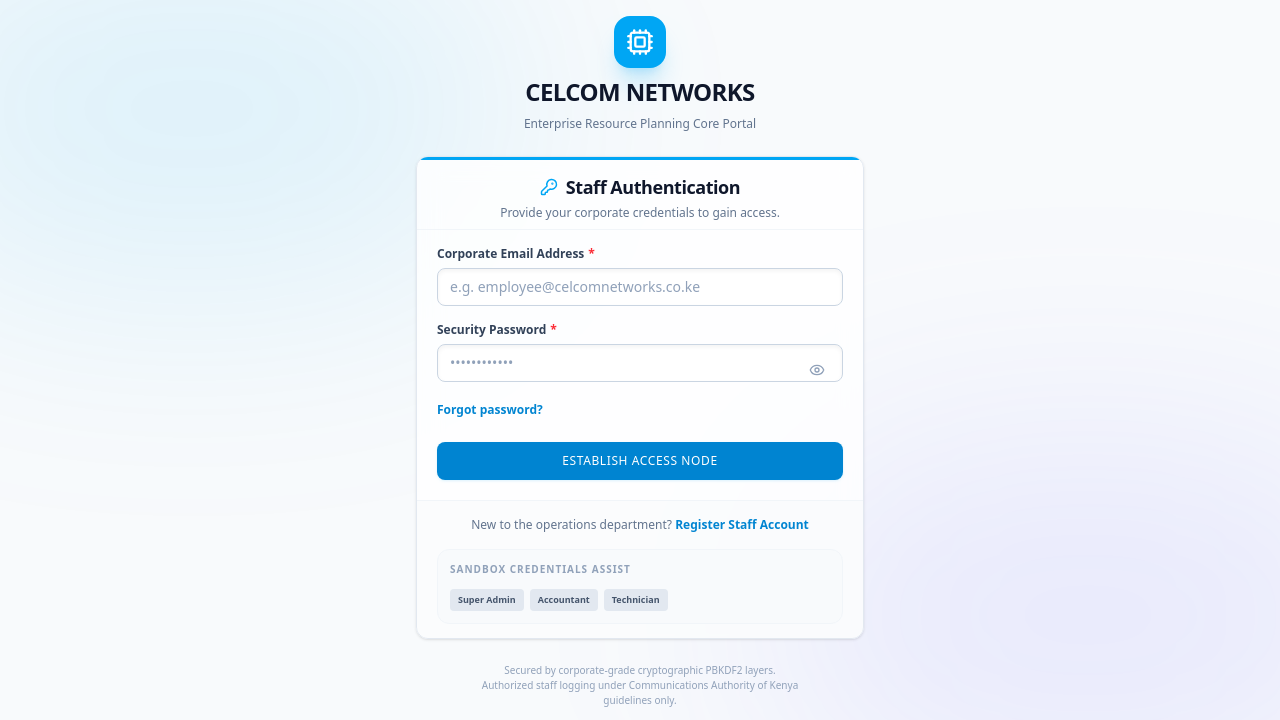
Scenario: LoginPage Component Unit Tests › should display error message on authentication failure with incorrect credentials
Note: Populate inputs to bypass native HTML5 validation
Type "noc@celcomnetworks.co.ke" into the field labelled "Corporate Email Address *" at (640, 287), box [437,268,843,306]
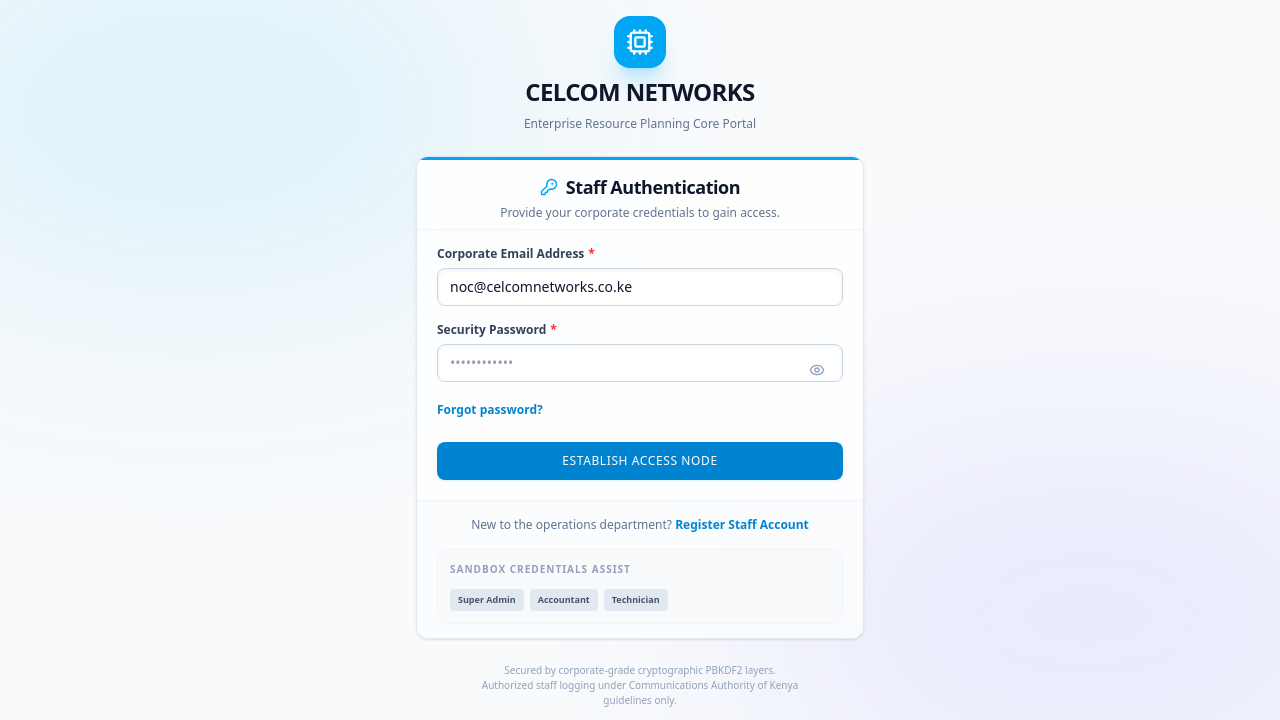
Type "incorrect-pass" into the password field labelled "Security Password *" at (640, 363), box [437,344,843,382]
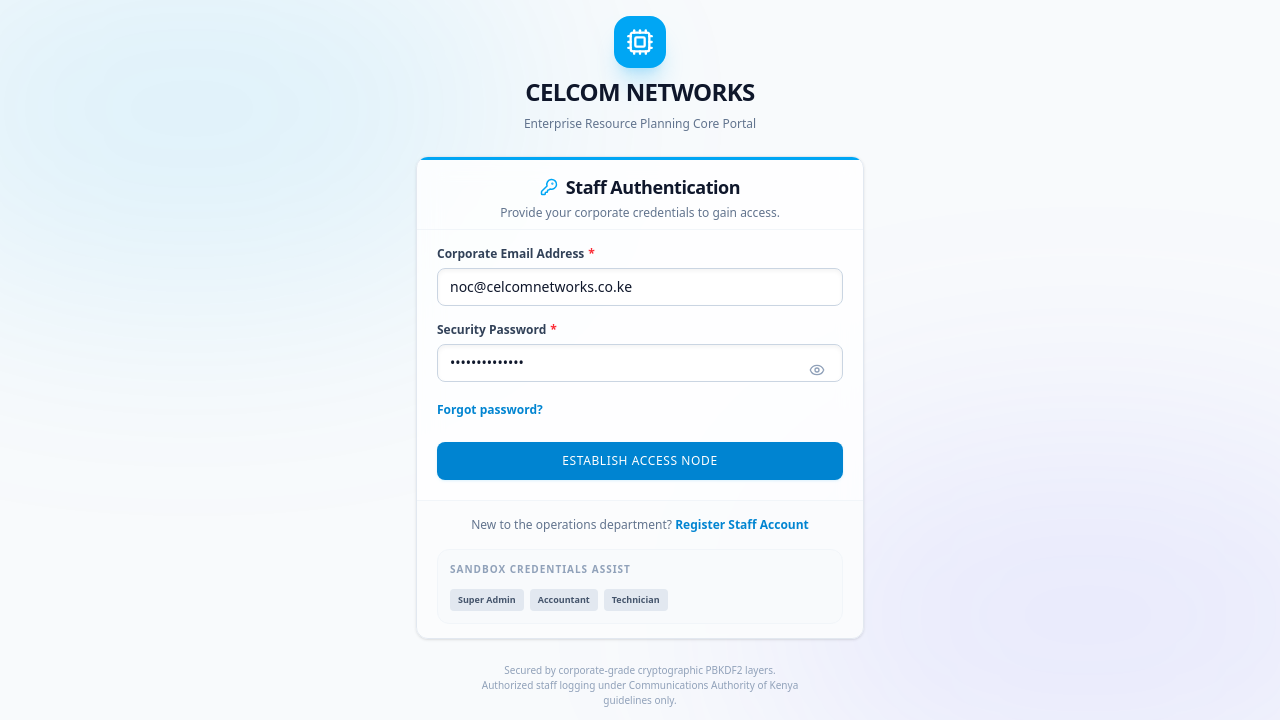
Click the button "Establish Access Node" at (640, 461), box [437,442,843,480]
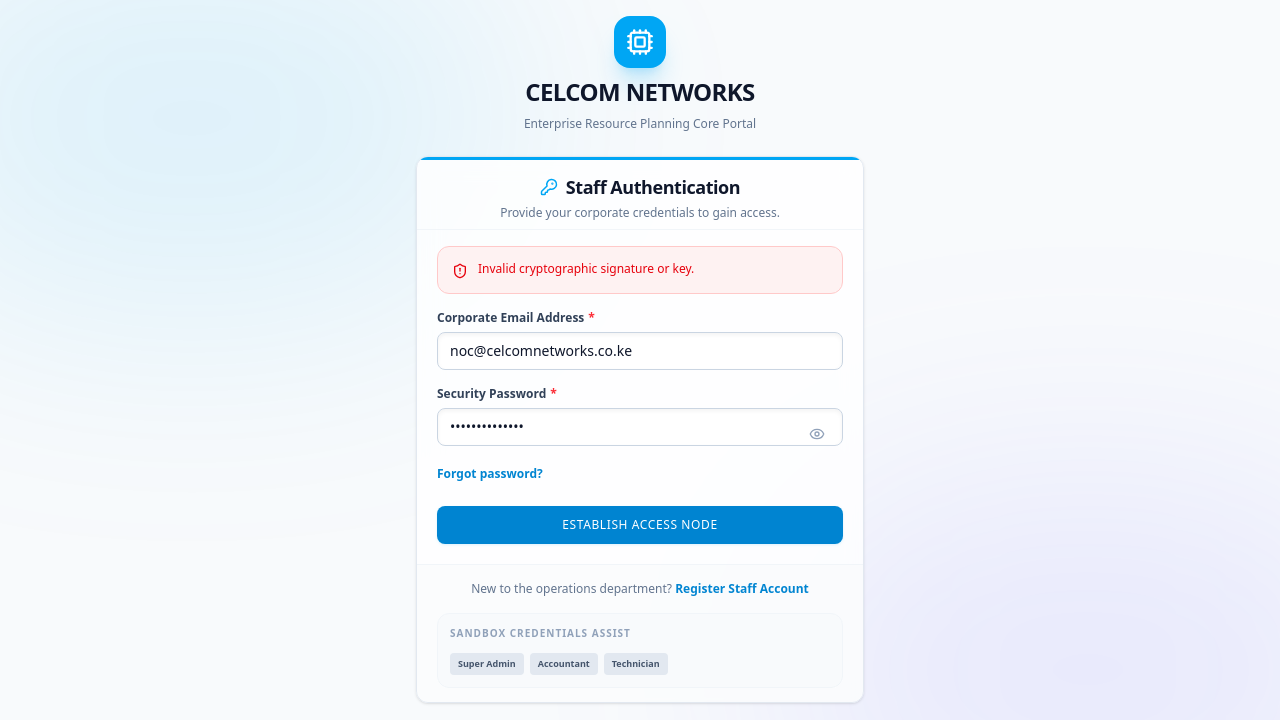
Check: the text "Invalid cryptographic signature or key." is shown, box [478,261,694,277]
